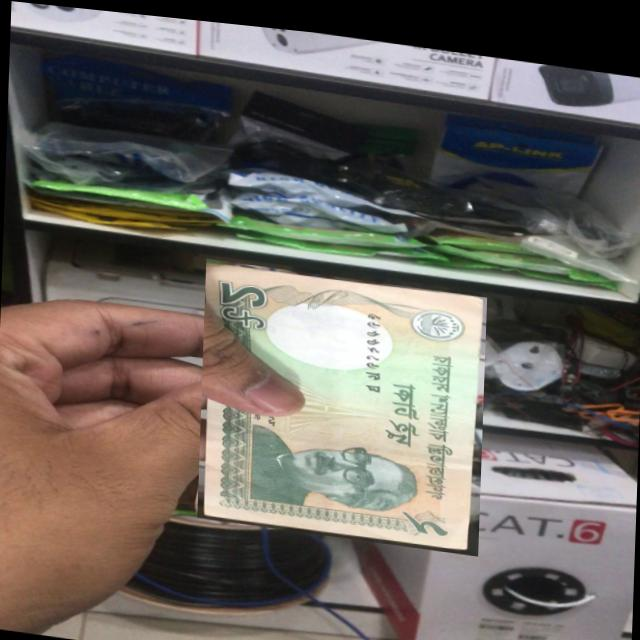Taka: (196, 253, 486, 547)
